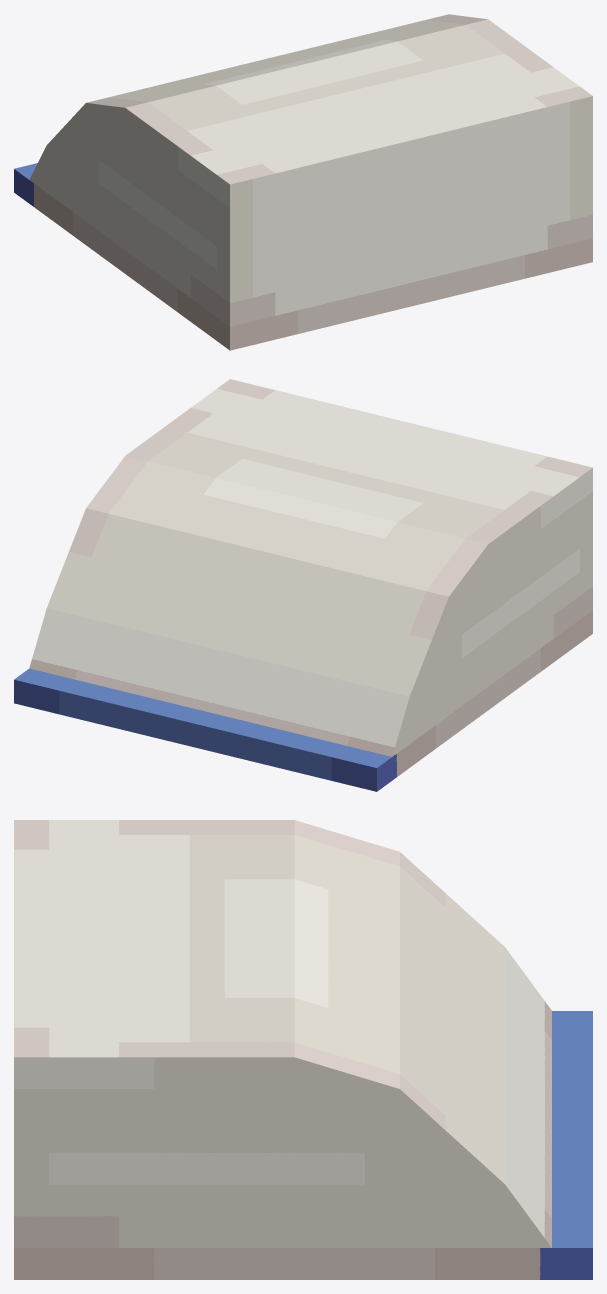
The model's file is wx980_carport_1.obj.
3 renders of one model, top to bottom at view 1: azimuth 30°, elevation 25°; view 2: azimuth 150°, elevation 25°; view 3: azimuth 270°, elevation 25°, orthographic. The views are drawn at different scales.
Parts seen in each view (by area): view 1: part_f5a002ccc90d19f2aafdbdea47541677; view 2: part_f5a002ccc90d19f2aafdbdea47541677; view 3: part_f5a002ccc90d19f2aafdbdea47541677.
Boxes of the visible parts, box(x1,y1,x2,y2) form: part_f5a002ccc90d19f2aafdbdea47541677: box(14, 14, 592, 350); part_f5a002ccc90d19f2aafdbdea47541677: box(14, 379, 592, 791); part_f5a002ccc90d19f2aafdbdea47541677: box(14, 820, 592, 1279).
Size of the model in its own units: 1 by 0.4375 by 1.03.
